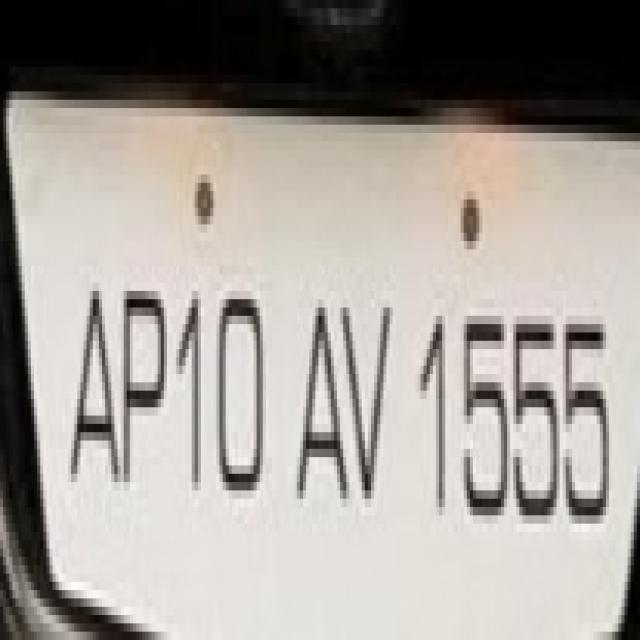0: (216, 272, 271, 520)
1: (171, 273, 208, 527), (415, 288, 452, 530)
5: (560, 289, 618, 531), (512, 292, 561, 546), (463, 287, 512, 538)
A: (65, 258, 121, 510), (292, 279, 351, 516)
P: (118, 258, 172, 507)
V: (338, 260, 400, 516)
